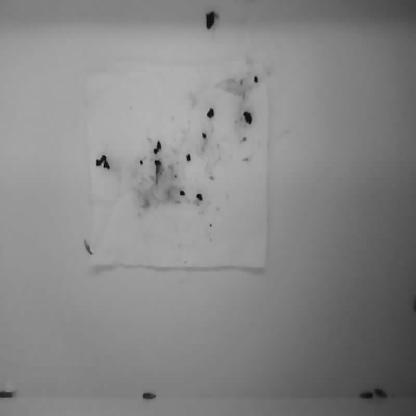PtecticusTenebrifer: (141, 390, 158, 404), (0, 389, 20, 400), (358, 390, 374, 401), (375, 387, 388, 398)
